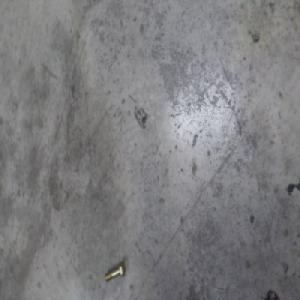Bolt: (106, 262, 128, 286)
